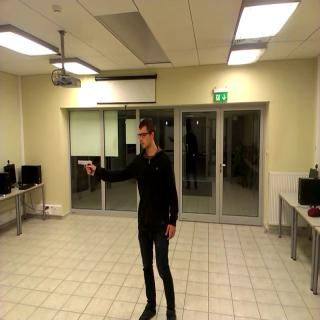gun: (72, 153, 98, 180)
